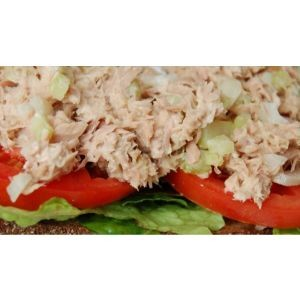tuna_brain food: (15, 69, 288, 210)
